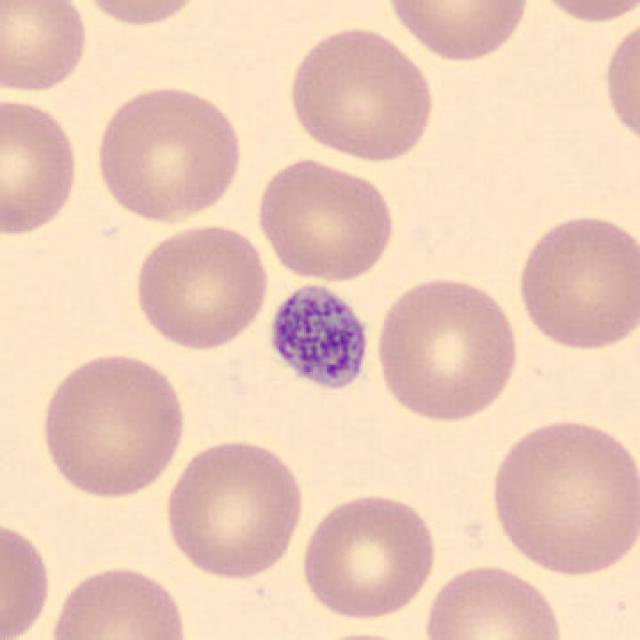Platelets: (259, 278, 377, 398)
RBC: (484, 413, 638, 578), (36, 347, 190, 501), (372, 272, 522, 426), (91, 81, 247, 226), (284, 21, 438, 164), (160, 434, 308, 582), (128, 218, 272, 352), (297, 488, 441, 622), (252, 153, 398, 284), (512, 208, 638, 354), (0, 93, 84, 240), (42, 560, 193, 640), (419, 560, 568, 640), (381, 0, 535, 65), (0, 0, 92, 97), (0, 513, 55, 640), (599, 11, 638, 155), (70, 0, 212, 30), (522, 0, 640, 26), (299, 627, 425, 640)
